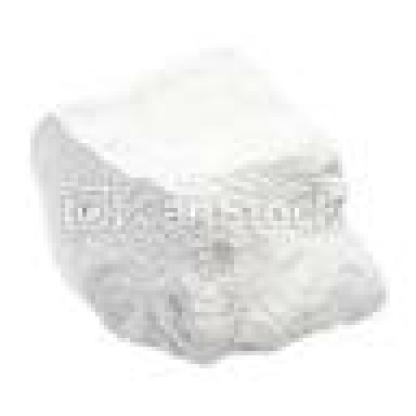Sedimentary_Chalk: (0, 34, 408, 356)
